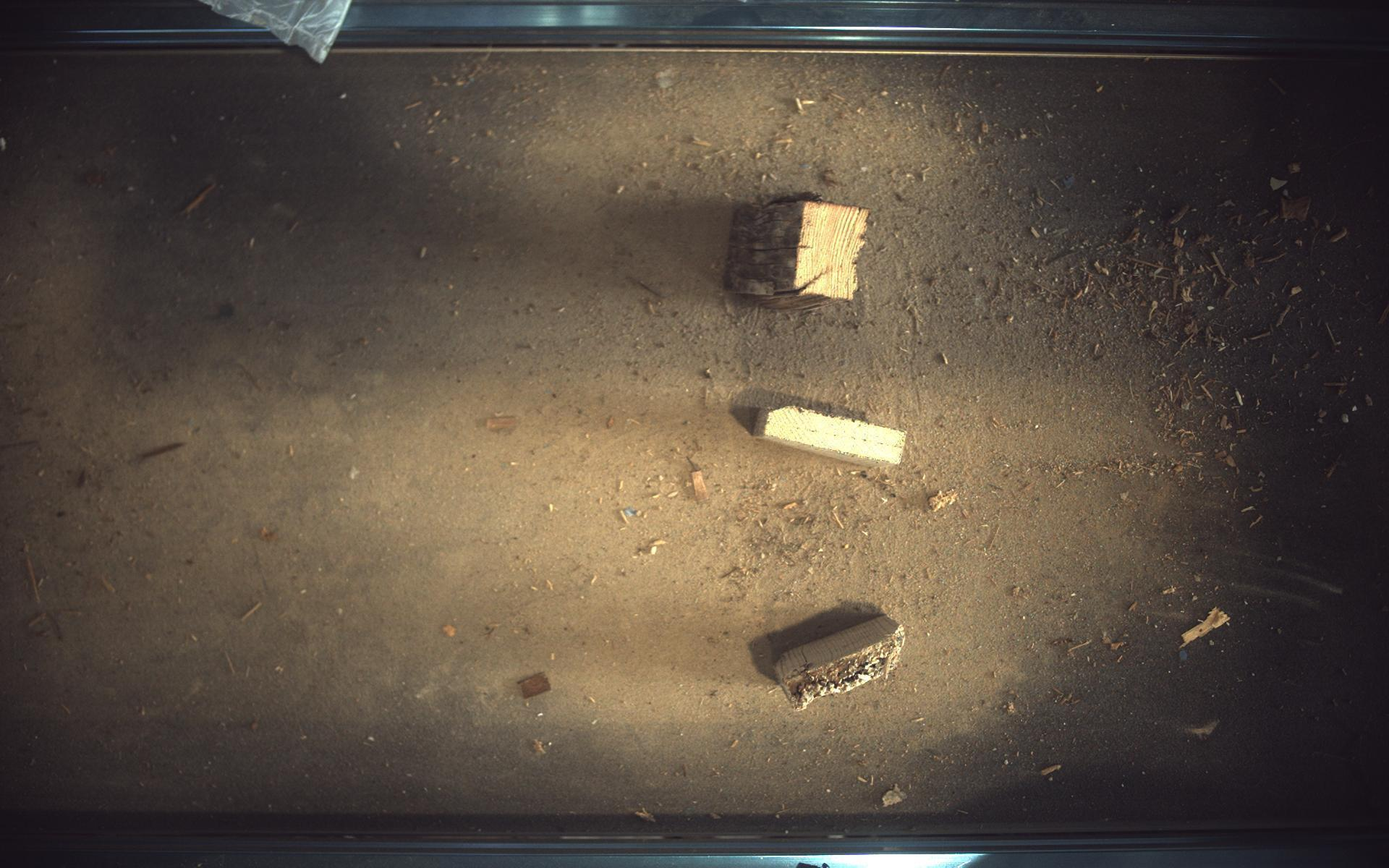wood: (725, 198, 871, 310), (777, 616, 906, 710), (755, 407, 908, 467)
